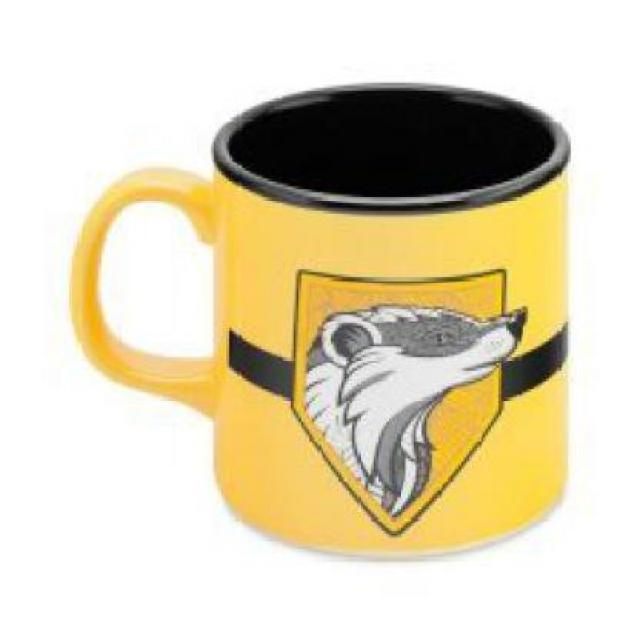taza: (68, 79, 574, 566)
